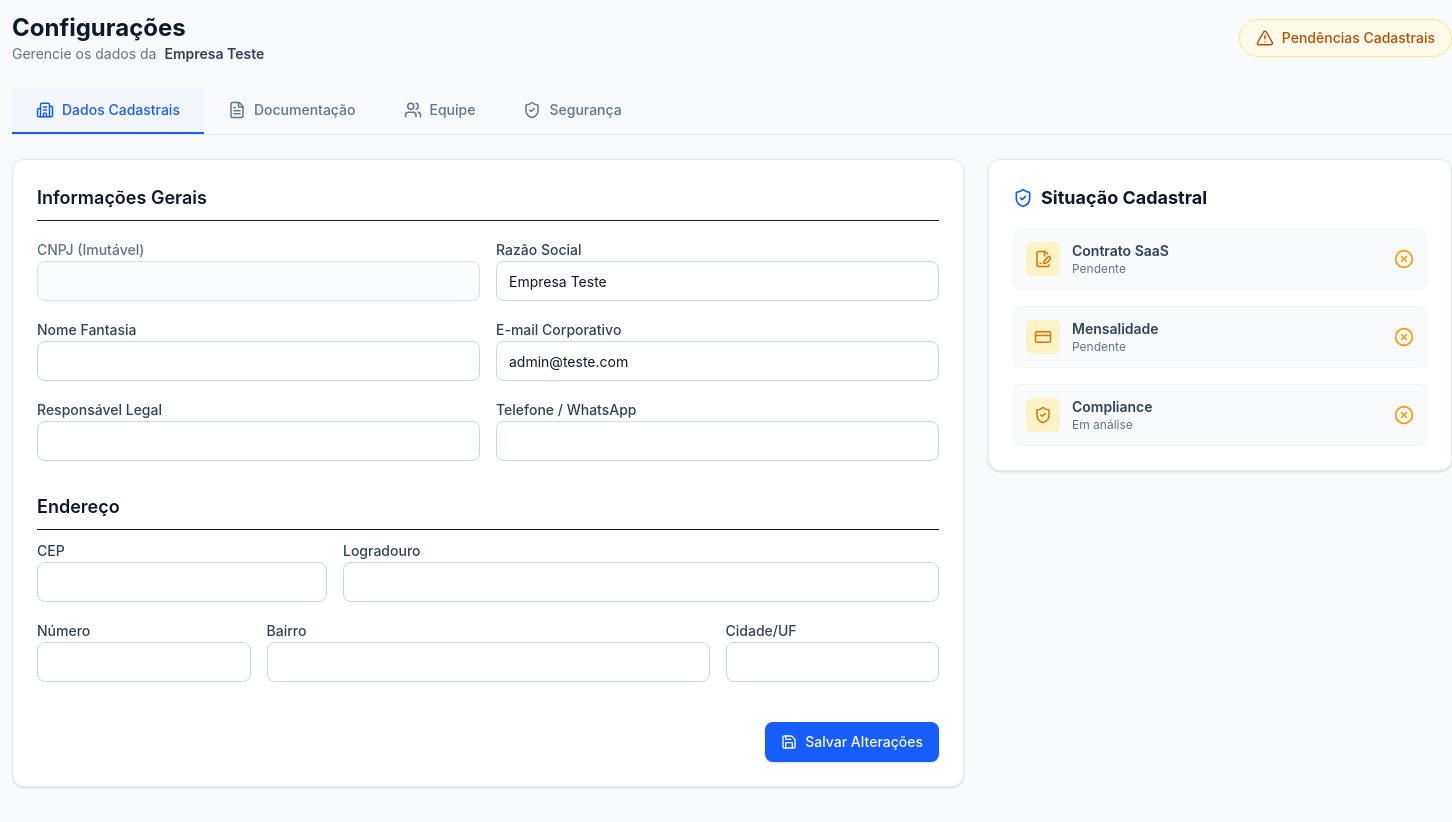
Test: CompanySettings Resilience Stress Test › deve estabilizar na aba correta mesmo após trocas frenéticas (Race Condition de Abas)
Expected: the button "Dados Cadastrais" is shown, [12,88,204,134]
Step 1. Click the button "Equipe" → (439, 111), box [380,88,499,134]
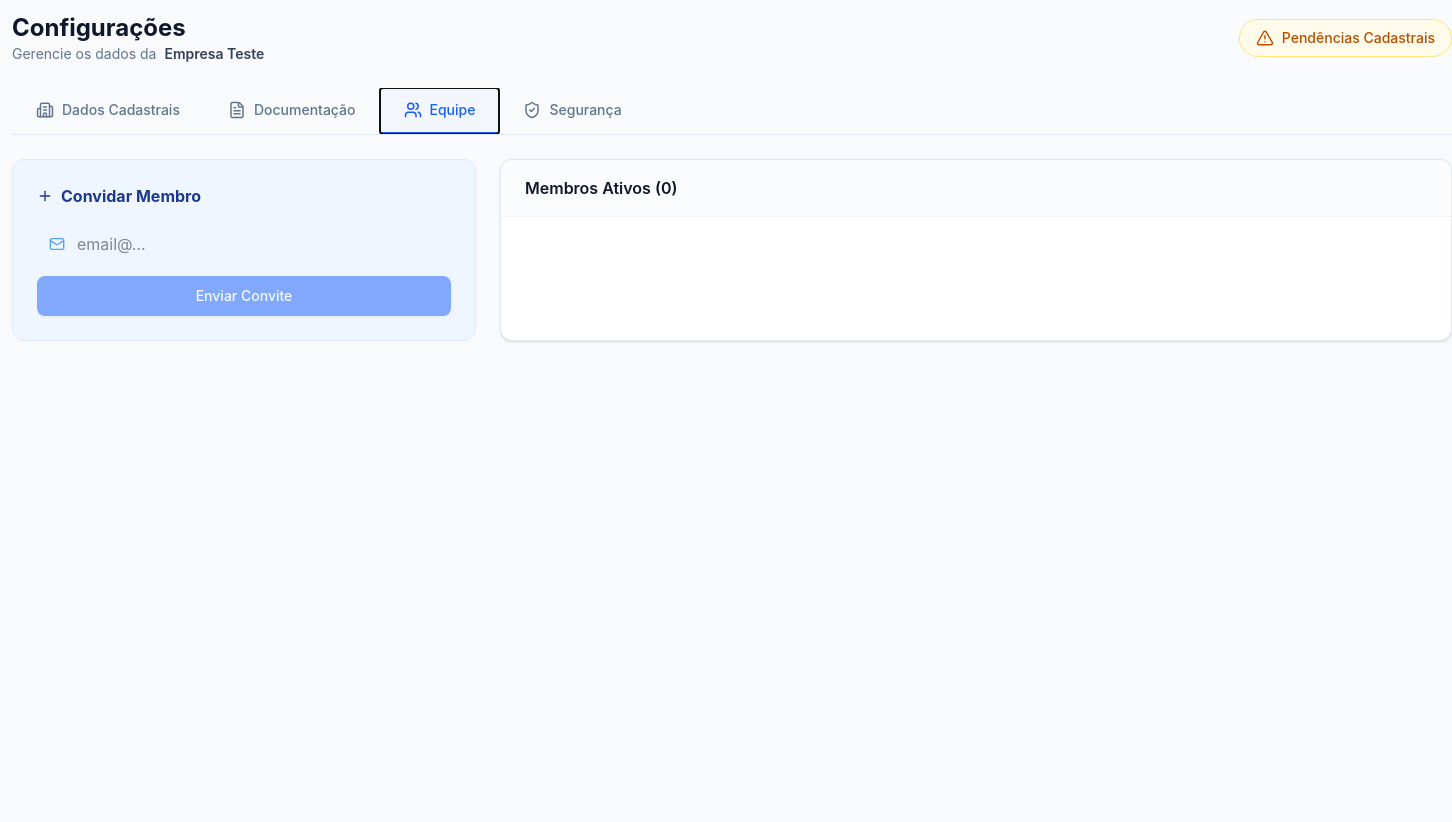
Step 2. Click the button "Documentação" → (292, 111), box [204,88,380,134]
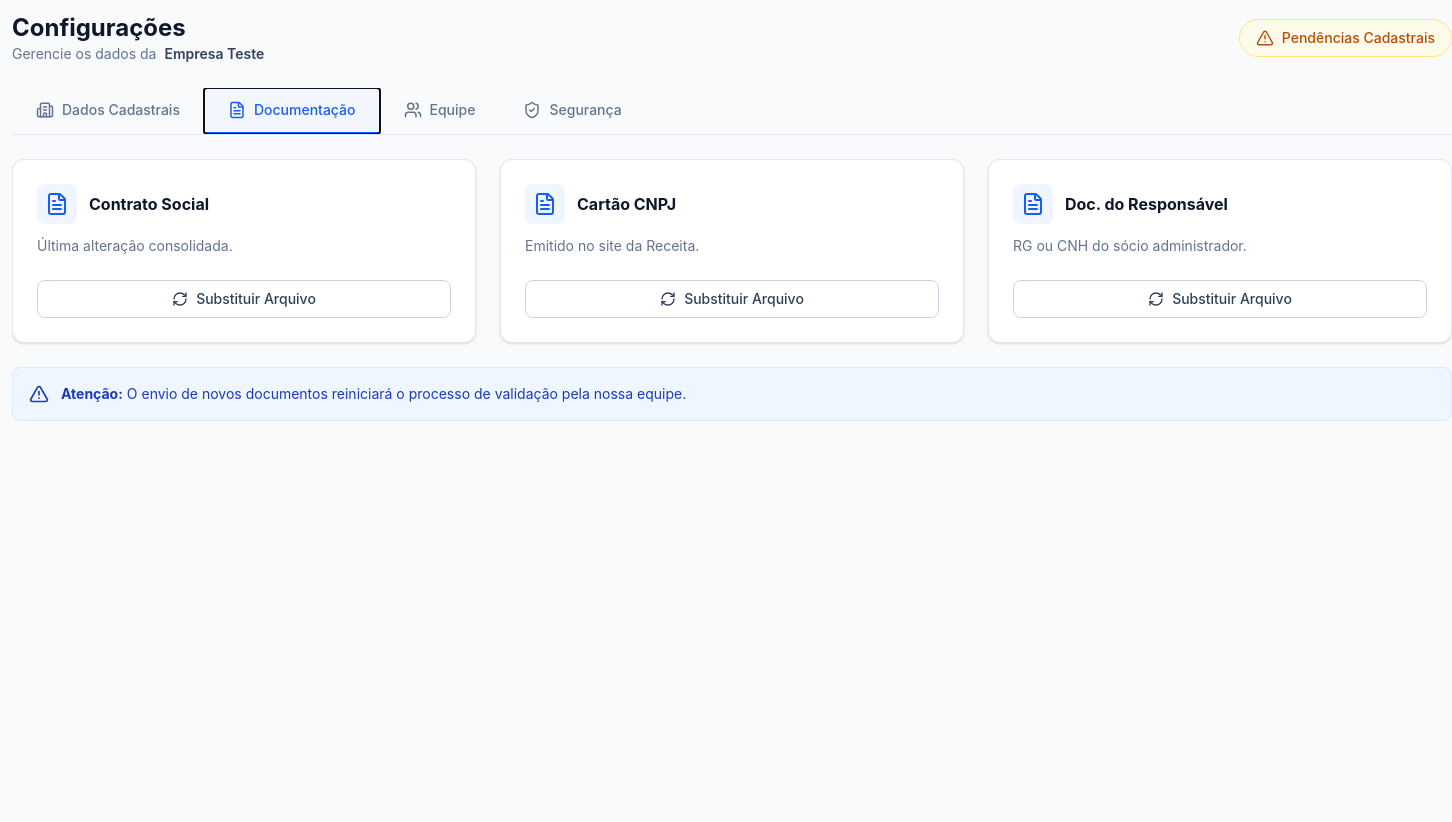
Step 3. Click the button "Equipe" → (439, 111), box [380,88,499,134]
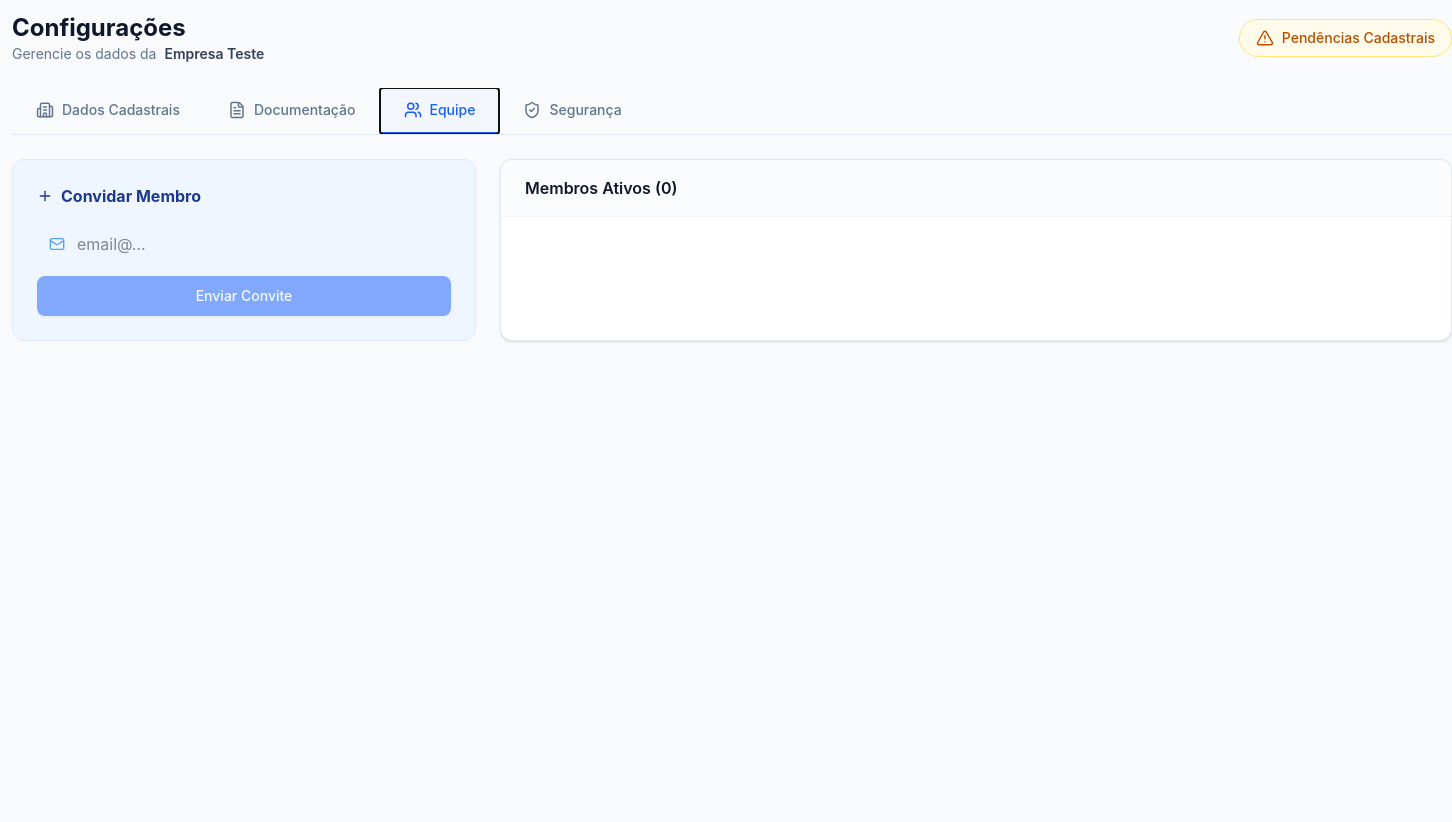
Step 4. Click the button "Segurança" → (573, 111), box [499,88,646,134]
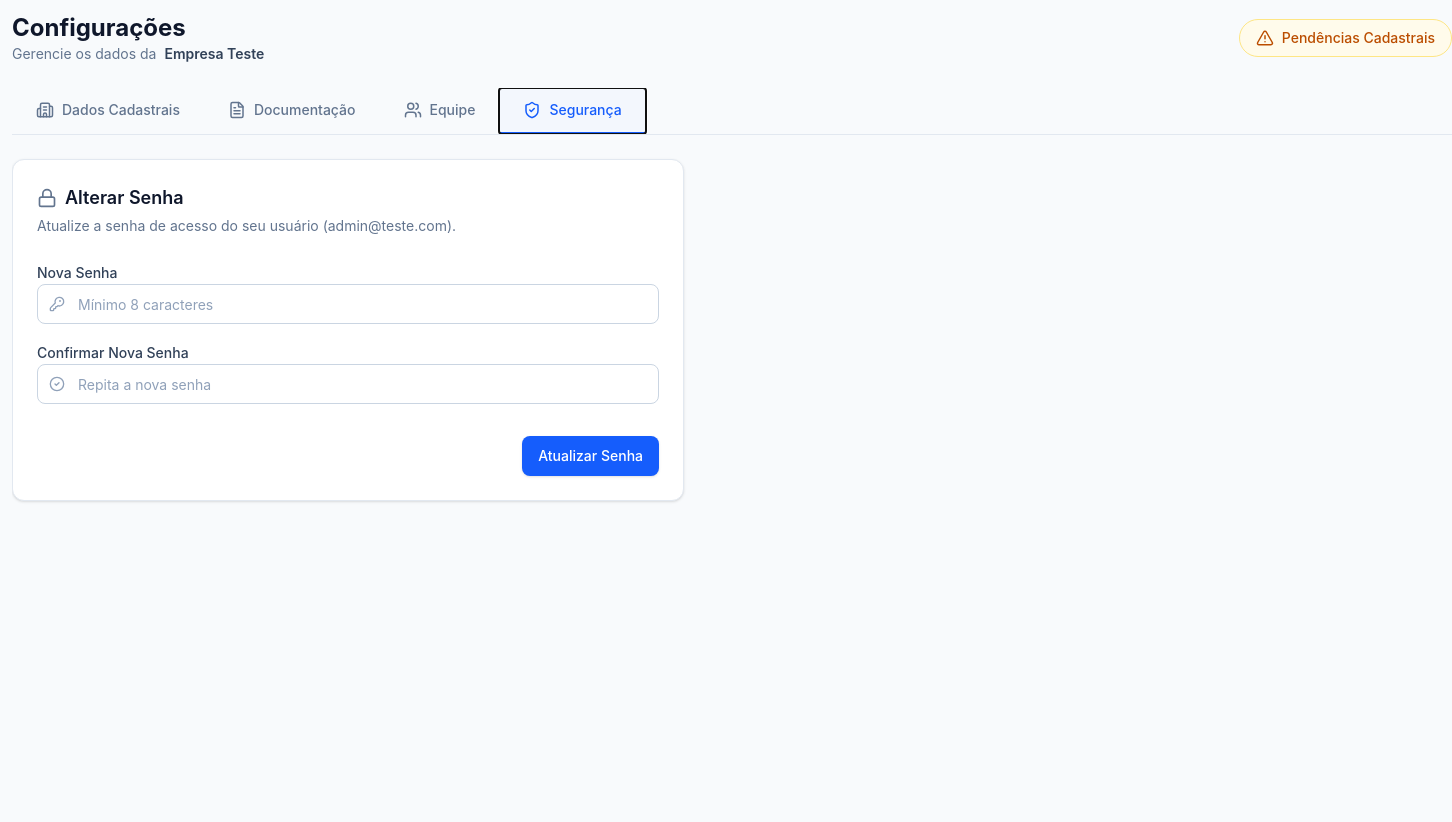
Now the text "Atualize a senha de acesso do seu usuário (admin@teste.com)." is shown, box [37,217,456,234]
Now the heading "Membros Ativos" is gone
